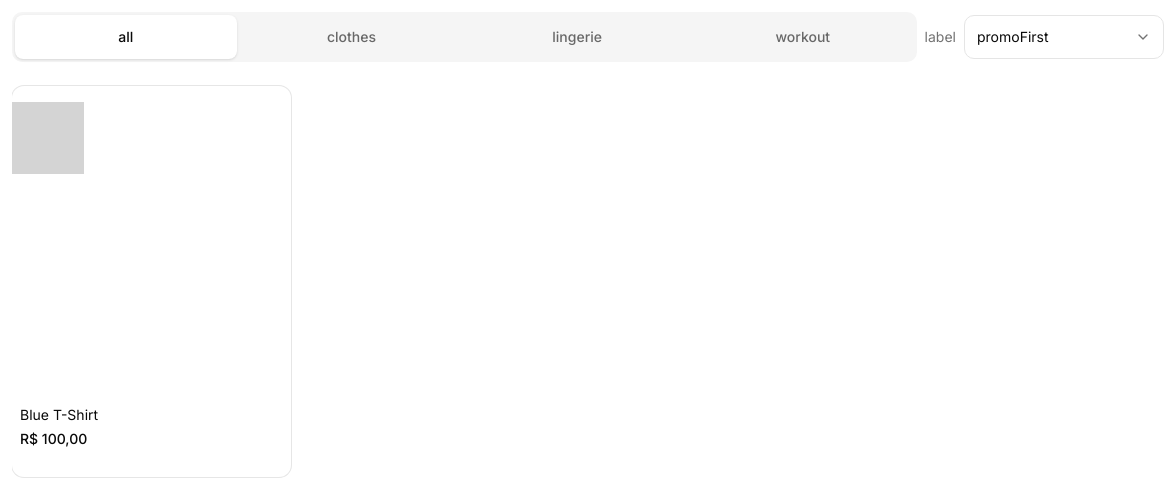
Test: CategoryFilter › shows the empty-state message when no products are in the selected category
Click the tab "lingerie" at (577, 37), box [466,15,688,59]
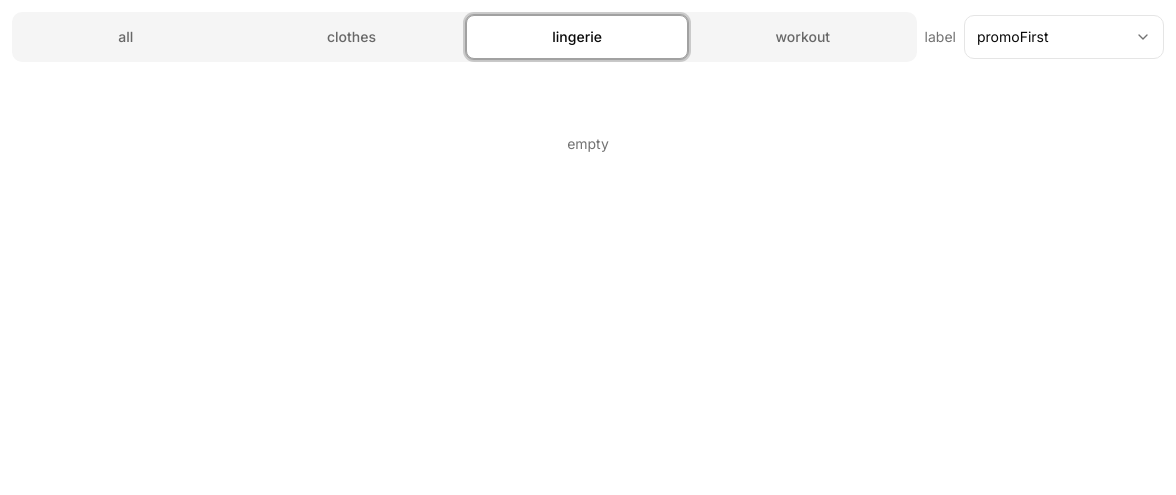
Result: the text "empty" is shown at [567,135,609,152]
